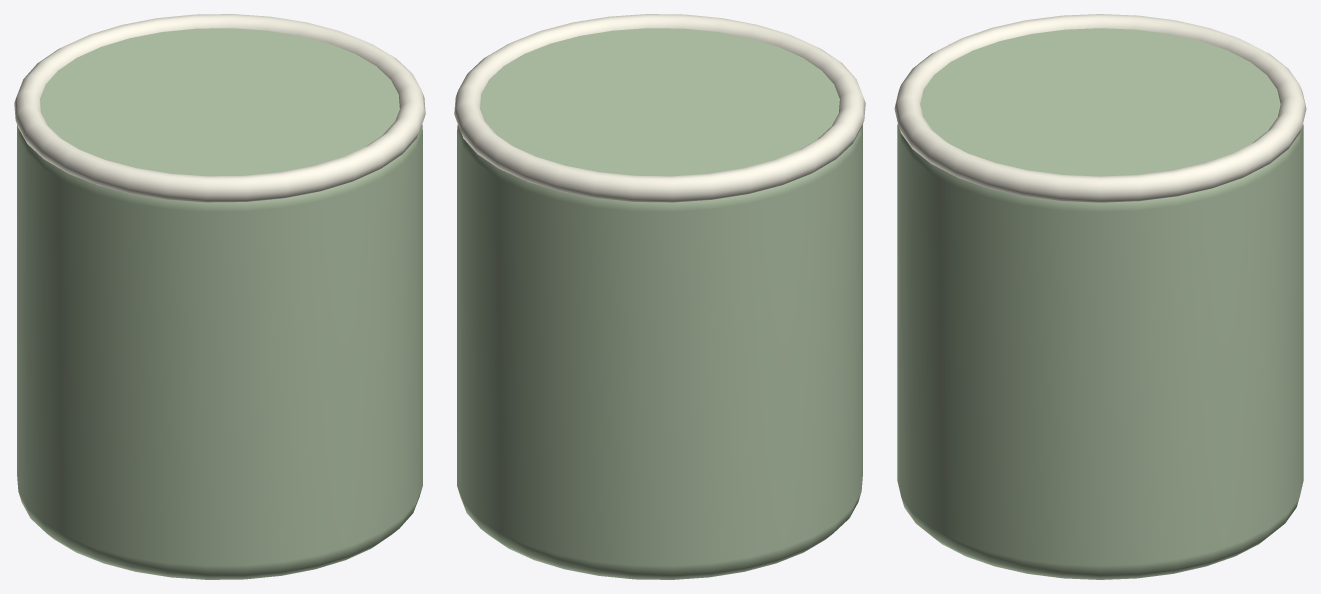
The model's file is bathroomShowerBin.glb.
3 views of the same model, side by side, from view 1: azimuth 30°, elevation 25°; view 2: azimuth 150°, elevation 25°; view 3: azimuth 270°, elevation 25° (orthographic).
Parts seen in each view (by area): view 1: Bin, Bin rim; view 2: Bin, Bin rim; view 3: Bin, Bin rim.
Part boxes in pixels (box(x1,y1,x2,y2)): Bin: box(17, 28, 422, 579); Bin rim: box(14, 14, 425, 202); Bin: box(457, 28, 862, 579); Bin rim: box(454, 14, 865, 202); Bin: box(897, 28, 1303, 579); Bin rim: box(894, 14, 1306, 202).
Bounding box in the file's own units: 0.75 × 0.8138 × 0.75.
